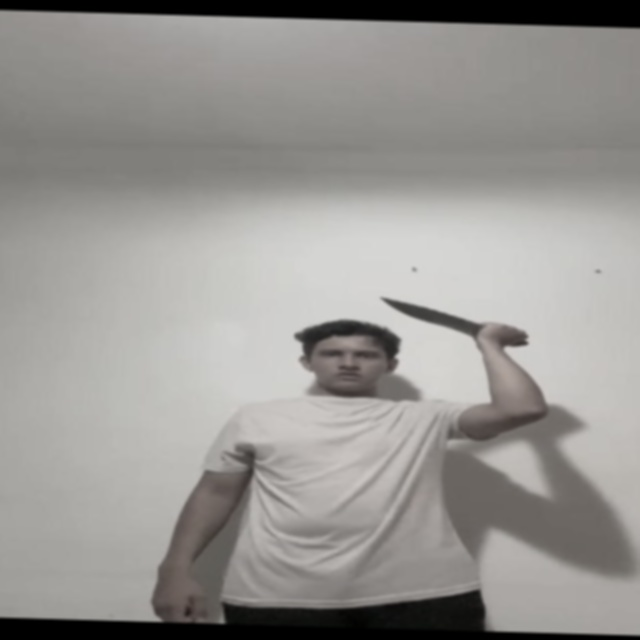Sharp-Object: (384, 297, 481, 336)
